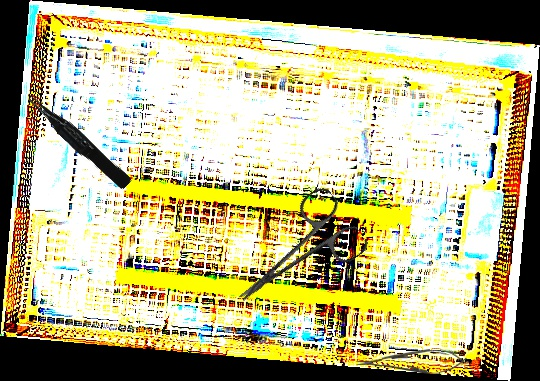Iris Scissors: (215, 183, 372, 328)
Needle Holder: (354, 348, 468, 375)
Tissue Forceps: (25, 87, 133, 194)
